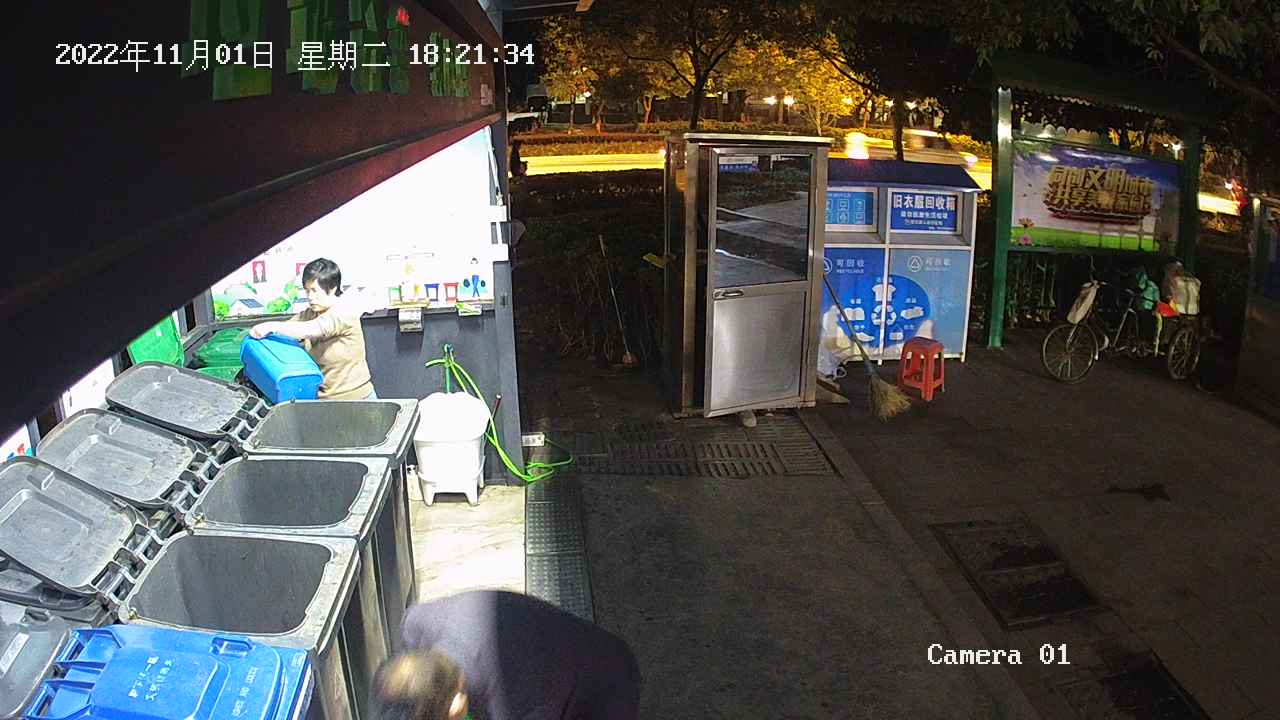person: (367, 586, 642, 720), (246, 255, 379, 401)
youtong: (239, 330, 324, 401)
